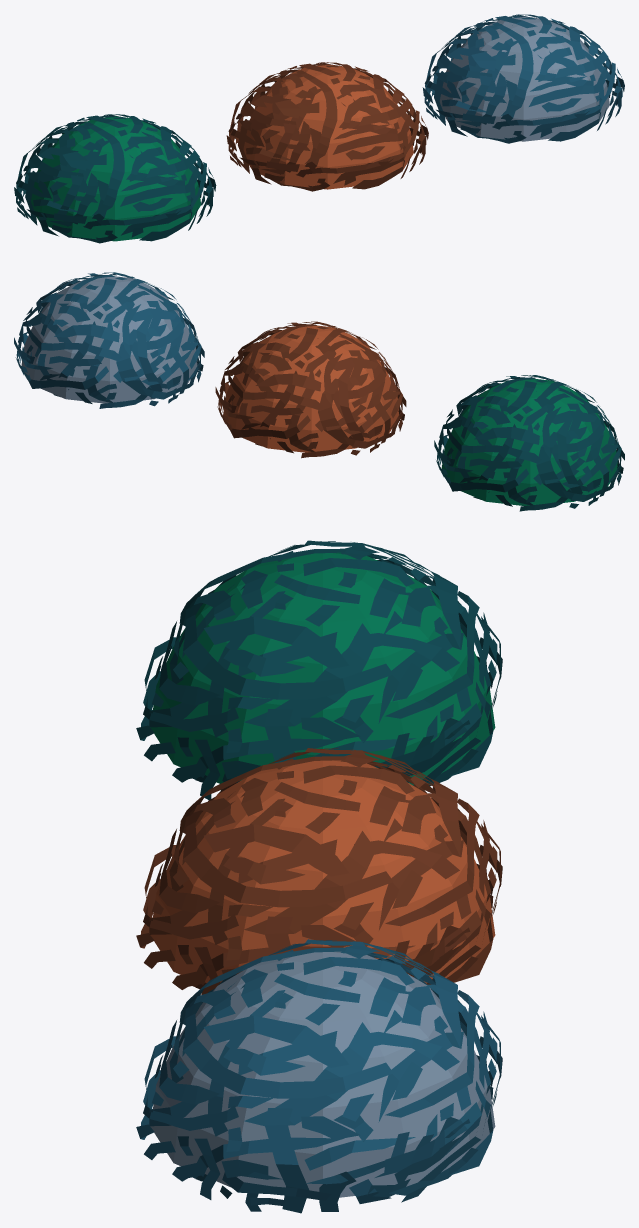
Rendered from Arbustos.fbx.
3 views of the same model, one above another, from view 1: azimuth 30°, elevation 25°; view 2: azimuth 150°, elevation 25°; view 3: azimuth 270°, elevation 25° (orthographic). The views are drawn at different scales.
Visible parts, largest first — view 1: Arbusto2, Arbusto3, Arbusto1; view 2: Arbusto2, Arbusto3, Arbusto1; view 3: Arbusto3, Arbusto1, Arbusto2.
Boxes of the visible parts, x1,y1,x2,y2 form: Arbusto2: [226, 62, 428, 191]; Arbusto3: [422, 14, 624, 143]; Arbusto1: [14, 114, 216, 243]; Arbusto2: [215, 321, 406, 458]; Arbusto3: [14, 272, 204, 408]; Arbusto1: [434, 375, 624, 511]; Arbusto3: [136, 939, 502, 1213]; Arbusto1: [136, 540, 502, 799]; Arbusto2: [136, 748, 502, 994].
Bounding box in the file's own units: 738 × 109 × 205.
